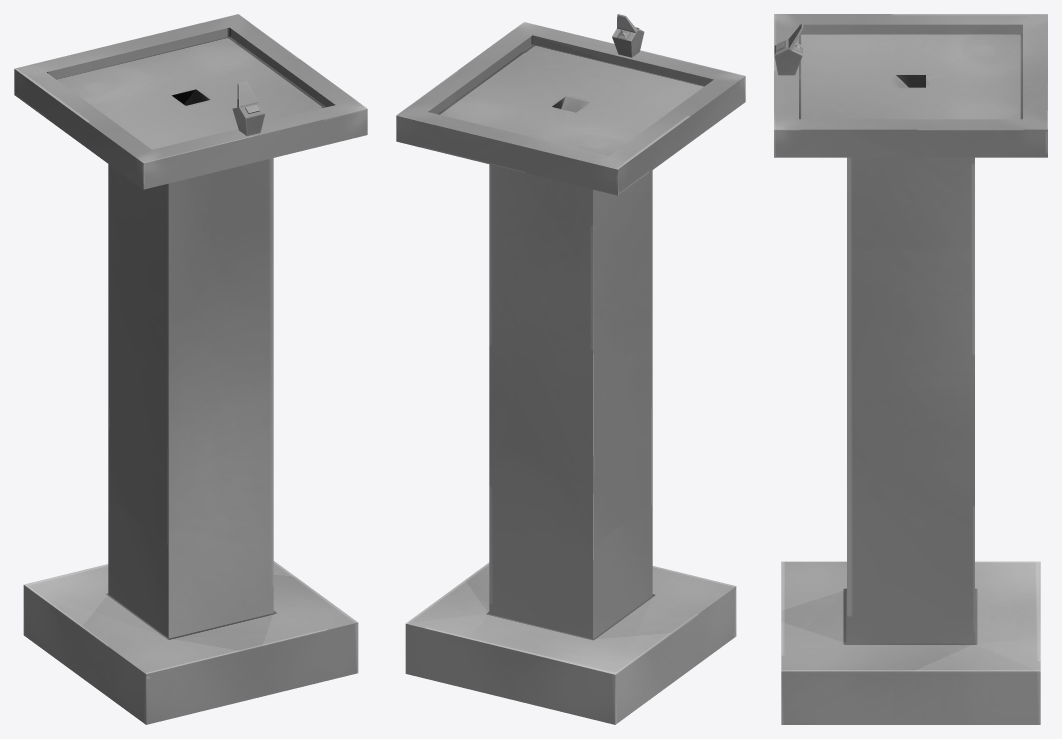
Rendered from drinkfountain.fbx.
3 renders of one model, left to right at view 1: azimuth 30°, elevation 25°; view 2: azimuth 150°, elevation 25°; view 3: azimuth 270°, elevation 25°, orthographic. The views are drawn at different scales.
Parts seen in each view (by area): view 1: Plane; view 2: Plane; view 3: Plane.
Part boxes in pixels (x1=…): Plane: x1=14, y1=14, x2=367, y2=724; Plane: x1=396, y1=14, x2=745, y2=724; Plane: x1=774, y1=14, x2=1047, y2=724.
Size of the model in its own units: 50.47 by 131 by 50.47.
